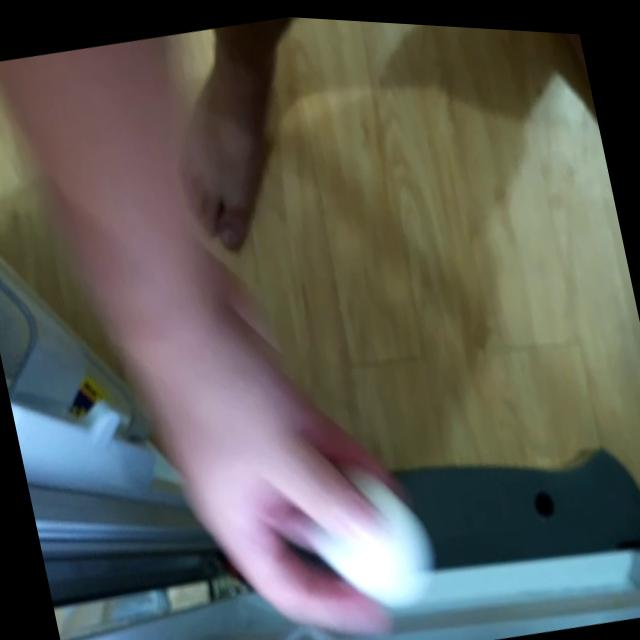egg: (324, 468, 436, 602)
